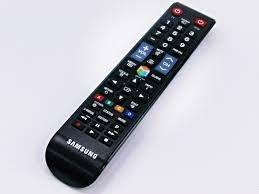remote control: (42, 0, 220, 194)
